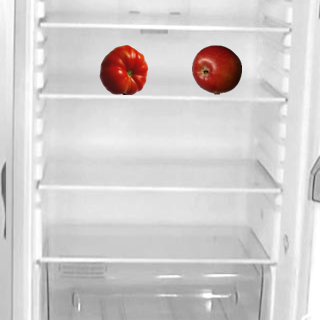Apple Braeburn: (191, 44, 241, 94)
Tomato 3: (98, 44, 148, 94)
